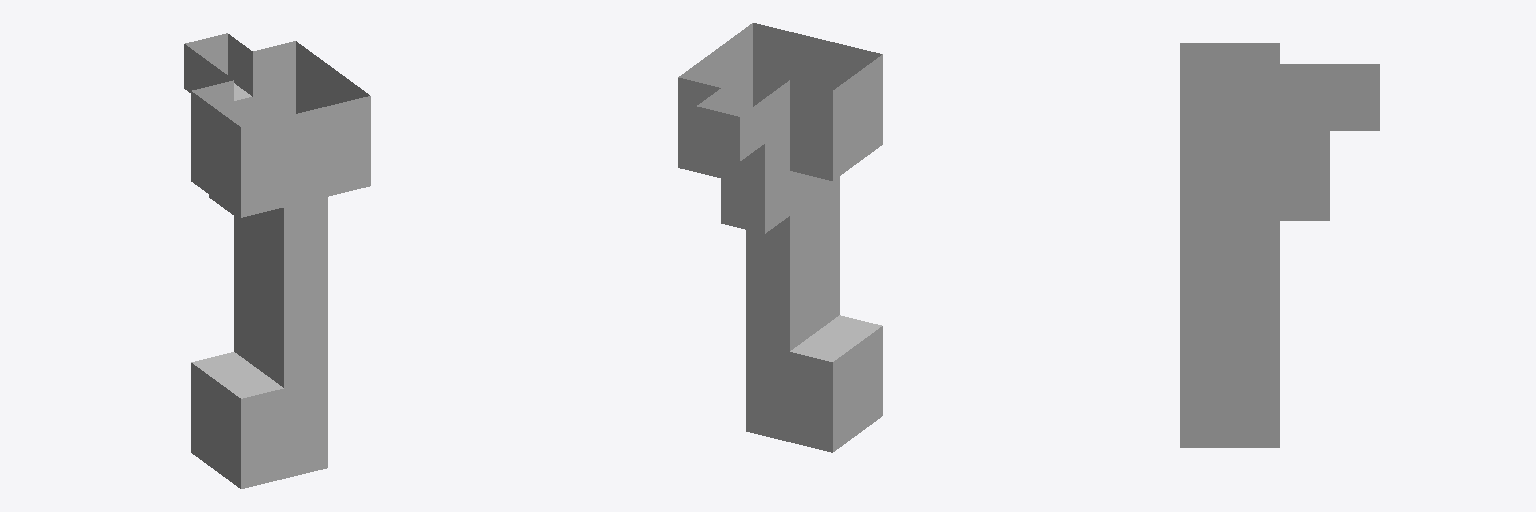
The model's file is back-right2.obj.
3 views of the same model, side by side, from view 1: azimuth 30°, elevation 25°; view 2: azimuth 150°, elevation 25°; view 3: azimuth 270°, elevation 25° (orthographic).
Parts seen in each view (by area): view 1: back-right_x24_przewalski_horse.004; view 2: back-right_x24_przewalski_horse.004; view 3: back-right_x24_przewalski_horse.004.
Boxes of the visible parts, x1,y1,x2,y2 form: back-right_x24_przewalski_horse.004: [184, 33, 370, 488]; back-right_x24_przewalski_horse.004: [678, 23, 882, 452]; back-right_x24_przewalski_horse.004: [1180, 43, 1379, 447].
Size of the model in its own units: 3 by 8 by 4.